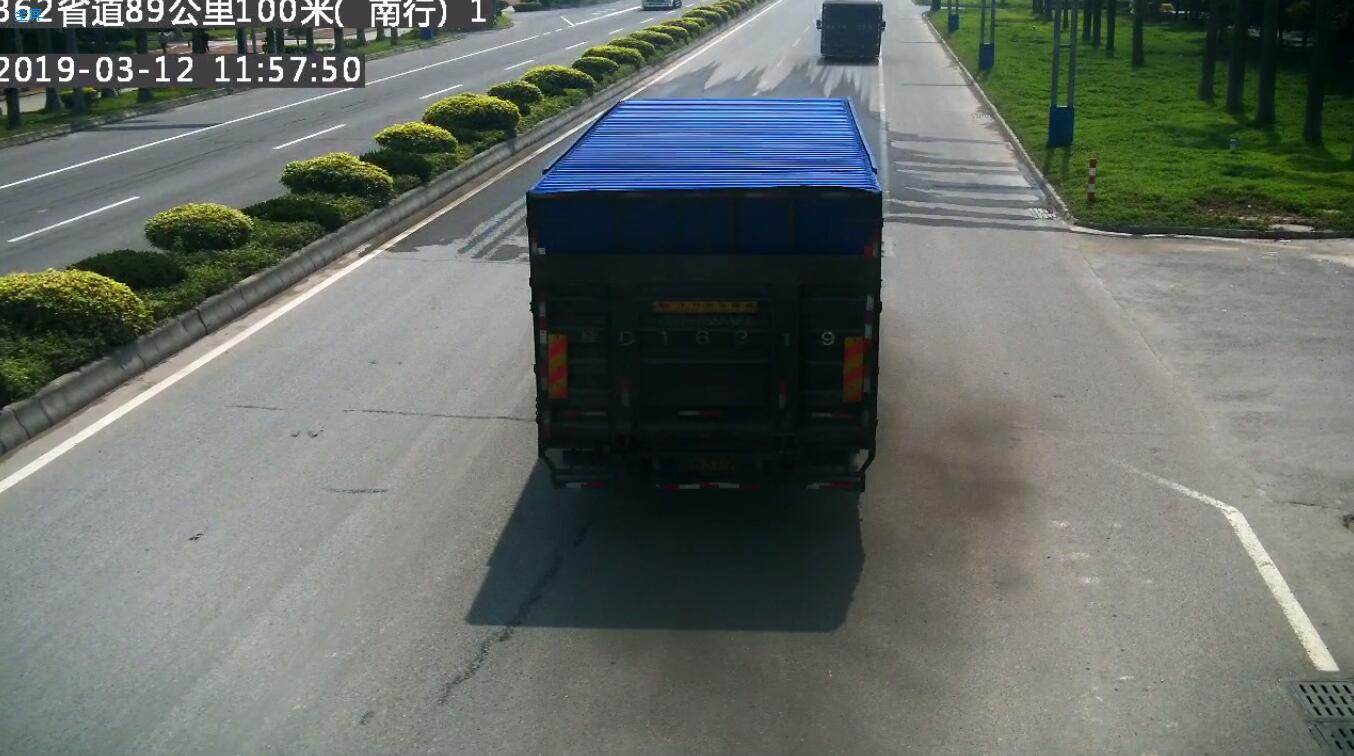yanwu: (861, 406, 1015, 568)
